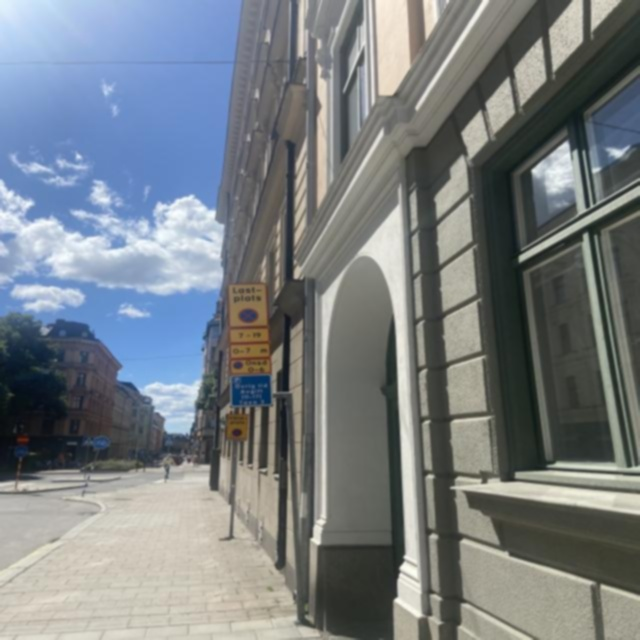lastplats: (230, 280, 270, 331)
